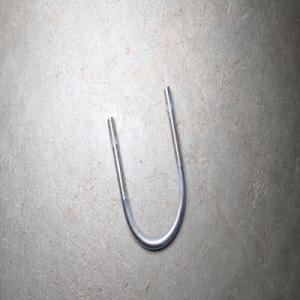ClampPart: (106, 85, 186, 251)
